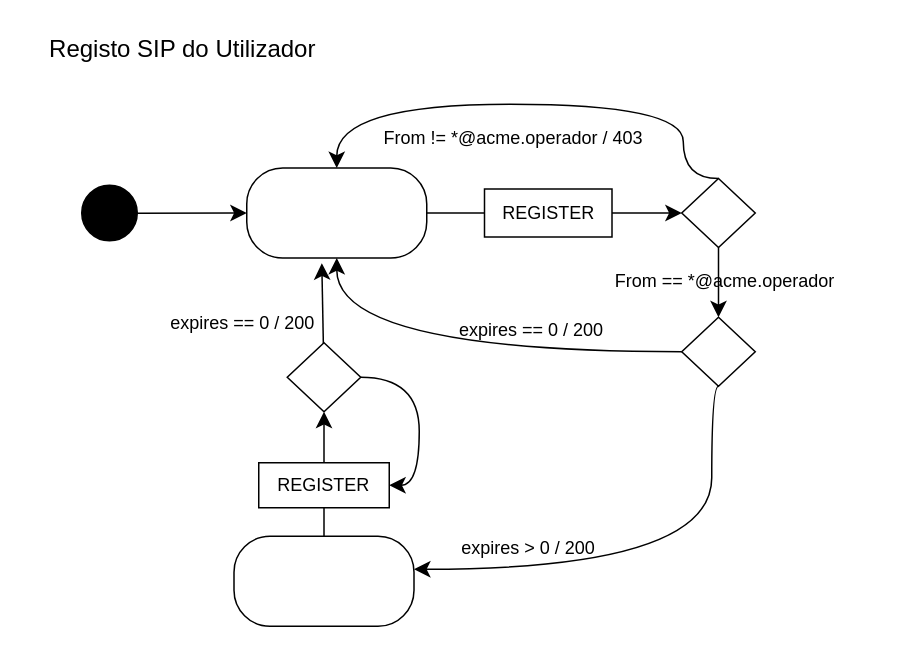
Image size: 924x653. Some labels were removed from this diagram. The centre of each missing label's shape, as x and y in pixels:
Not_Registered: the point at 336,212
Registered: the point at 323,580
